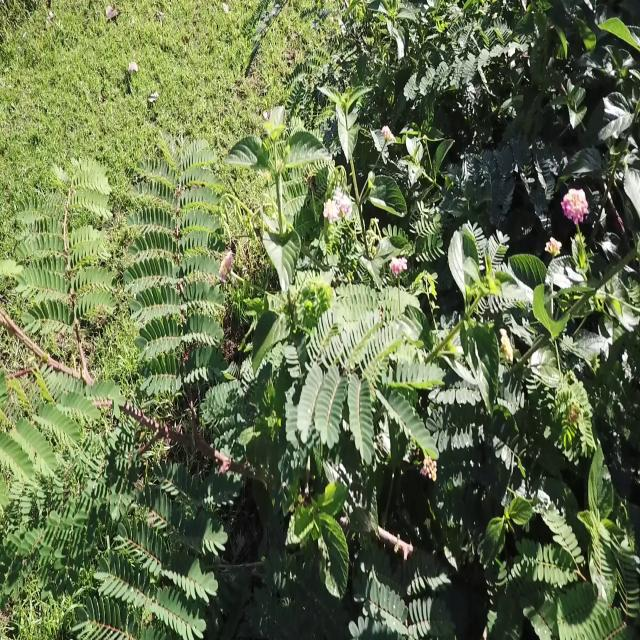Mysore-Thorn-Weed: (7, 179, 450, 640), (505, 467, 640, 640)
